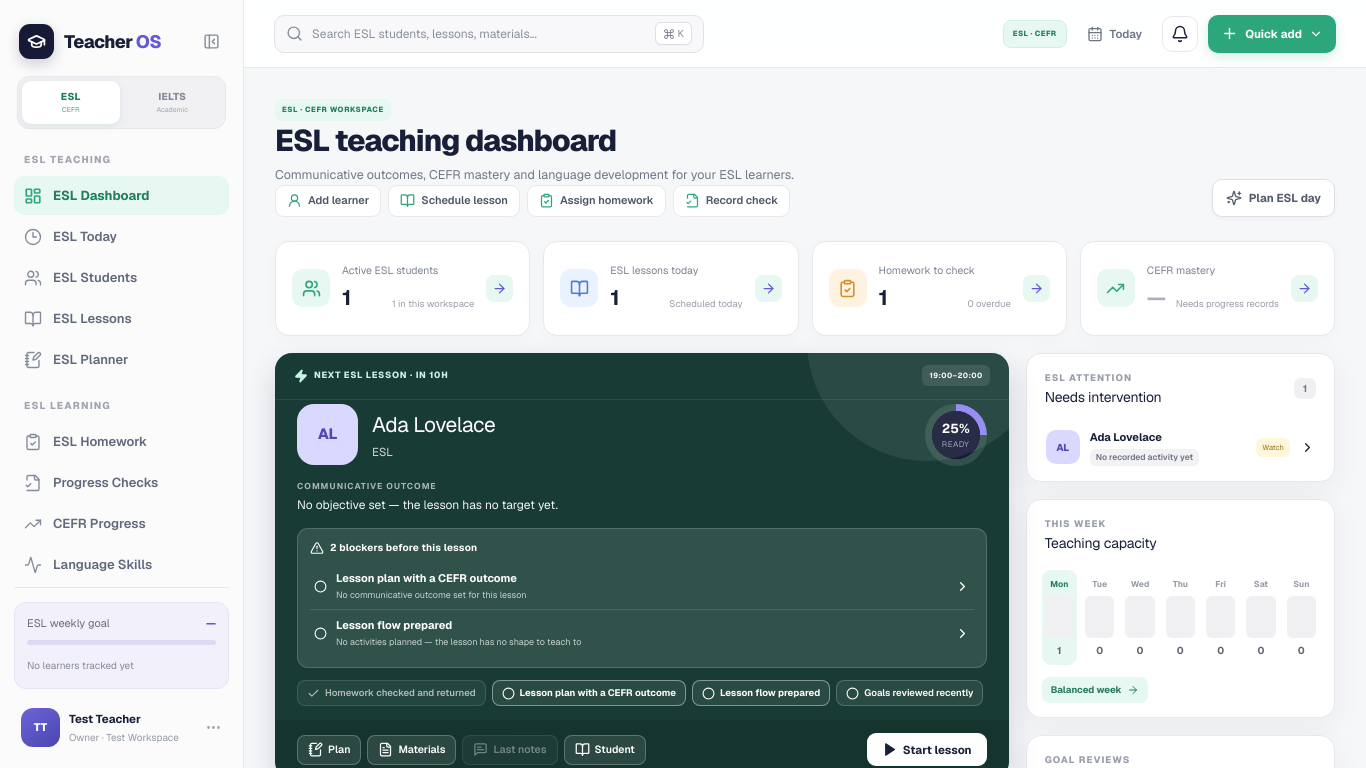
Test case: the workspace reaches every teacher-loop screen › opens the lesson planner with the scheduled lesson loaded
This screenshot has width=1366, height=768.
Click the button "ESL Planner" at (122, 360), box [14,340,229,379]
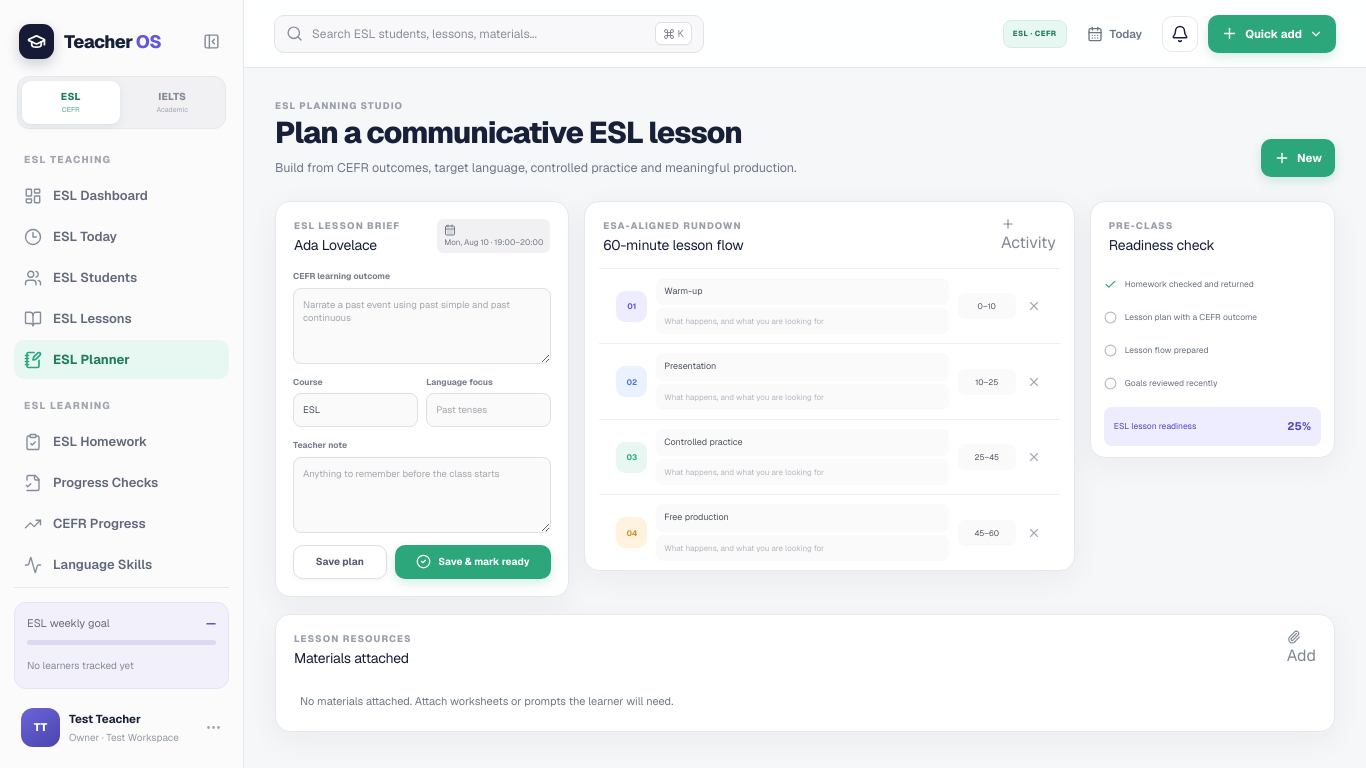
Expected: the heading "Ada Lovelace" is shown, [294,236,377,254]
Expected: the text "CEFR learning outcome" is shown, [293,270,390,282]
Expected: the heading "60-minute lesson flow" is shown, [603,237,743,254]
